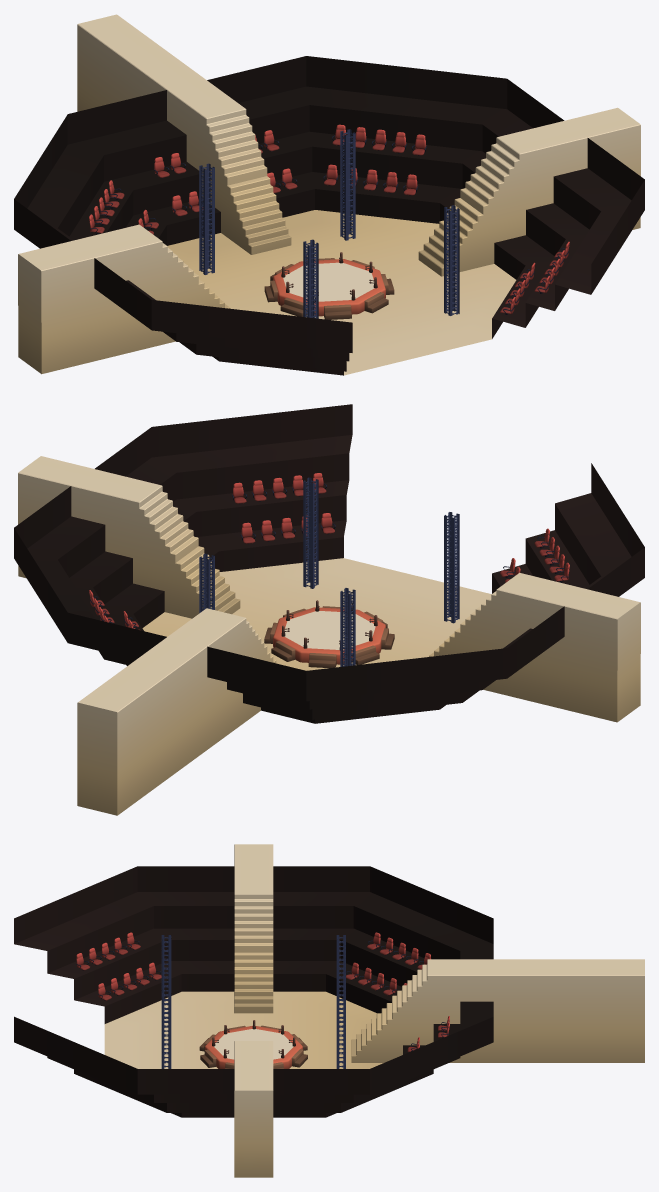
Rendered from FightScenario.fbx.
The picture shows the model from 3 angles, top to bottom: view 1: azimuth 30°, elevation 25°; view 2: azimuth 150°, elevation 25°; view 3: azimuth 270°, elevation 25°; orthographic projection. The views are drawn at different scales.
Parts seen in each view (by area): view 1: Ground_Model, Stair_Scenario_Dual_Model, Stair_Scenario_Single_Model, IronPillars_Model, Chair_Scenario_Model, Ring_Model, RingStairs_Model; view 2: Ground_Model, Stair_Scenario_Dual_Model, Stair_Scenario_Single_Model, IronPillars_Model, Ring_Model, Chair_Scenario_Model, RingStairs_Model; view 3: Ground_Model, Stair_Scenario_Single_Model, Stair_Scenario_Dual_Model, Chair_Scenario_Model, IronPillars_Model, Ring_Model, RingStairs_Model.
Part boxes in pixels (box(x1,y1,x2,y2)): Ground_Model: box(14, 56, 644, 375); Stair_Scenario_Dual_Model: box(18, 107, 640, 374); Stair_Scenario_Single_Model: box(77, 14, 291, 254); IronPillars_Model: box(199, 129, 459, 318); Chair_Scenario_Model: box(89, 124, 569, 314); Ring_Model: box(273, 259, 385, 316); RingStairs_Model: box(264, 258, 394, 319); Ground_Model: box(14, 404, 644, 723); Stair_Scenario_Dual_Model: box(18, 456, 640, 722); Stair_Scenario_Single_Model: box(77, 608, 278, 815); IronPillars_Model: box(199, 477, 459, 666); Ring_Model: box(273, 607, 385, 664); Chair_Scenario_Model: box(89, 473, 569, 630); RingStairs_Model: box(264, 606, 394, 668); Ground_Model: box(14, 866, 493, 1117); Stair_Scenario_Single_Model: box(351, 959, 644, 1062); Stair_Scenario_Dual_Model: box(234, 844, 273, 1177); Chair_Scenario_Model: box(76, 932, 449, 1052); IronPillars_Model: box(161, 935, 345, 1068); Ring_Model: box(205, 1025, 302, 1068); RingStairs_Model: box(199, 1025, 307, 1068).
Size of the model in its own units: 59.67 by 10 by 64.56.
